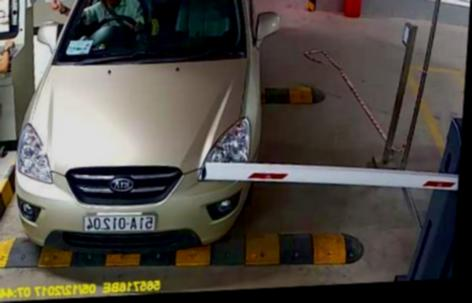License_Plate: (81, 207, 157, 239)
